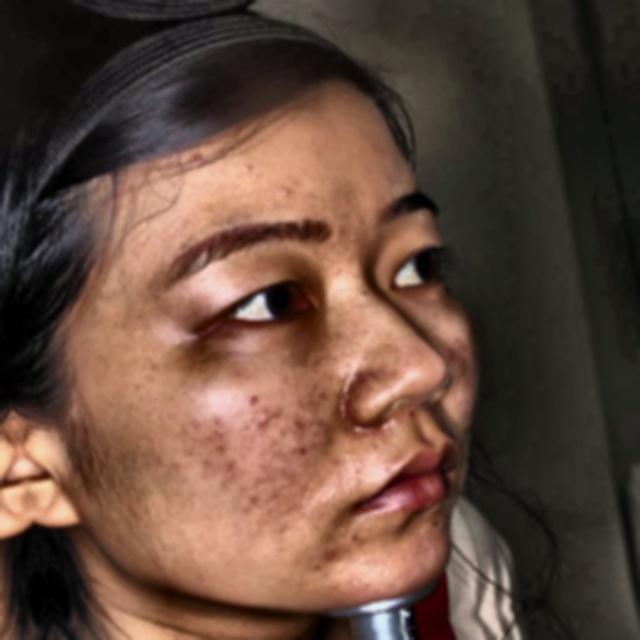comedone: (241, 399, 278, 434), (452, 353, 478, 386)
